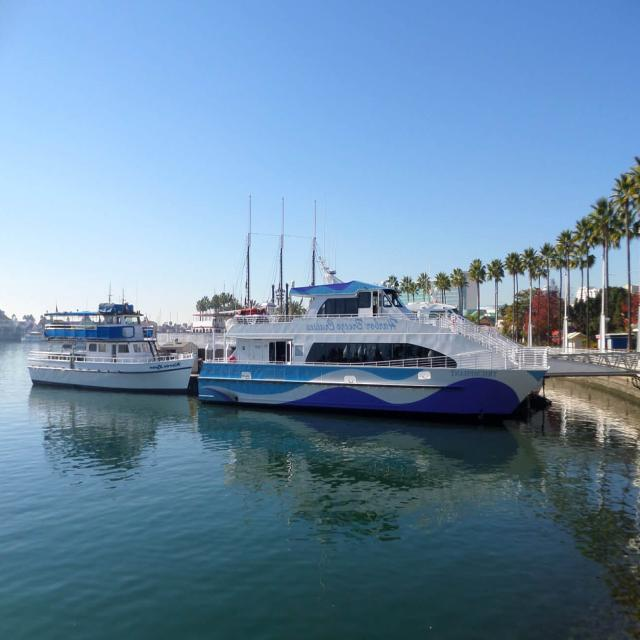houseboat: (195, 271, 558, 414), (28, 297, 195, 386)
